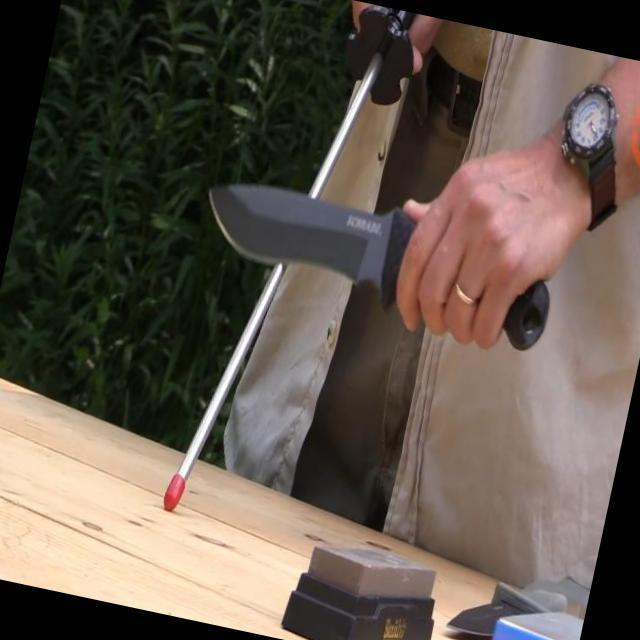Knife: (177, 124, 578, 375)
